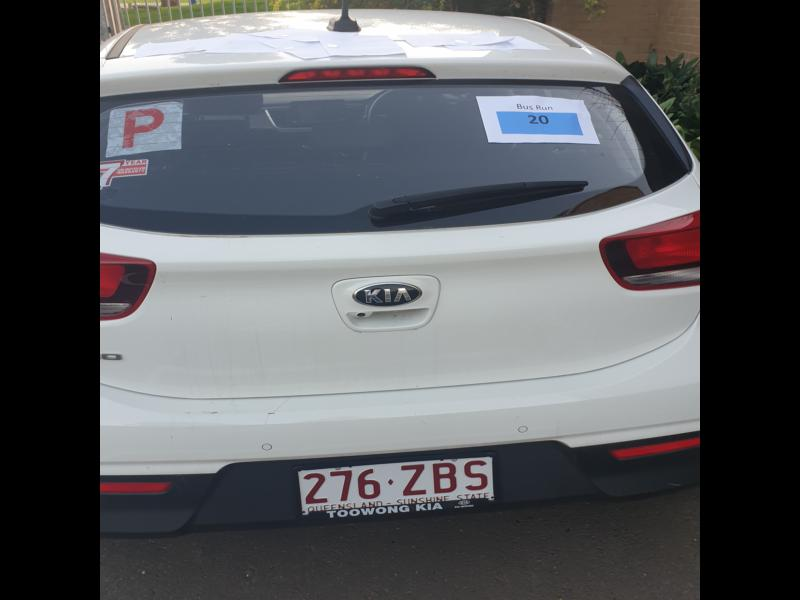BusRun: (496, 111, 583, 137)
PlateNo: (299, 456, 496, 512)
